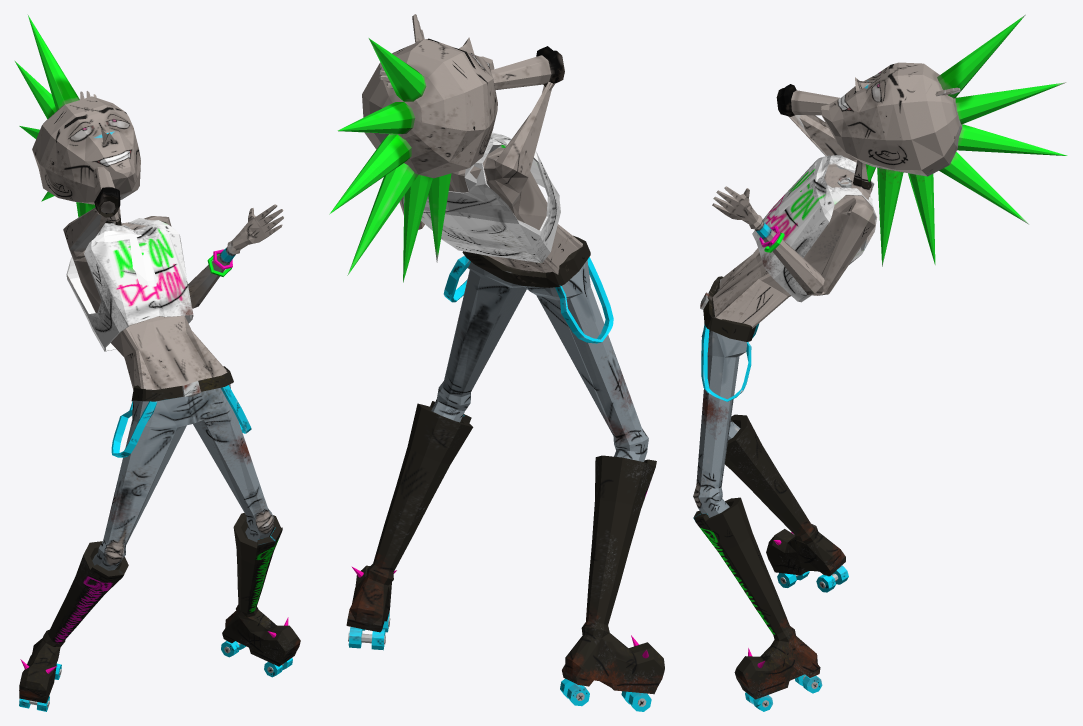
File: punkAnimation_000083.obj
3 renders of one model, left to right at view 1: azimuth 30°, elevation 25°; view 2: azimuth 150°, elevation 25°; view 3: azimuth 270°, elevation 25°, orthographic. The views are drawn at different scales.
Visible parts, largest first — view 1: Cube.004_Cube.003; view 2: Cube.004_Cube.003; view 3: Cube.004_Cube.003.
Boxes of the visible parts, x1,y1,x2,y2 form: Cube.004_Cube.003: [14, 14, 300, 711]; Cube.004_Cube.003: [329, 14, 664, 711]; Cube.004_Cube.003: [693, 14, 1067, 711].
Size of the model in its own units: 2.9 by 6.28 by 3.4.
